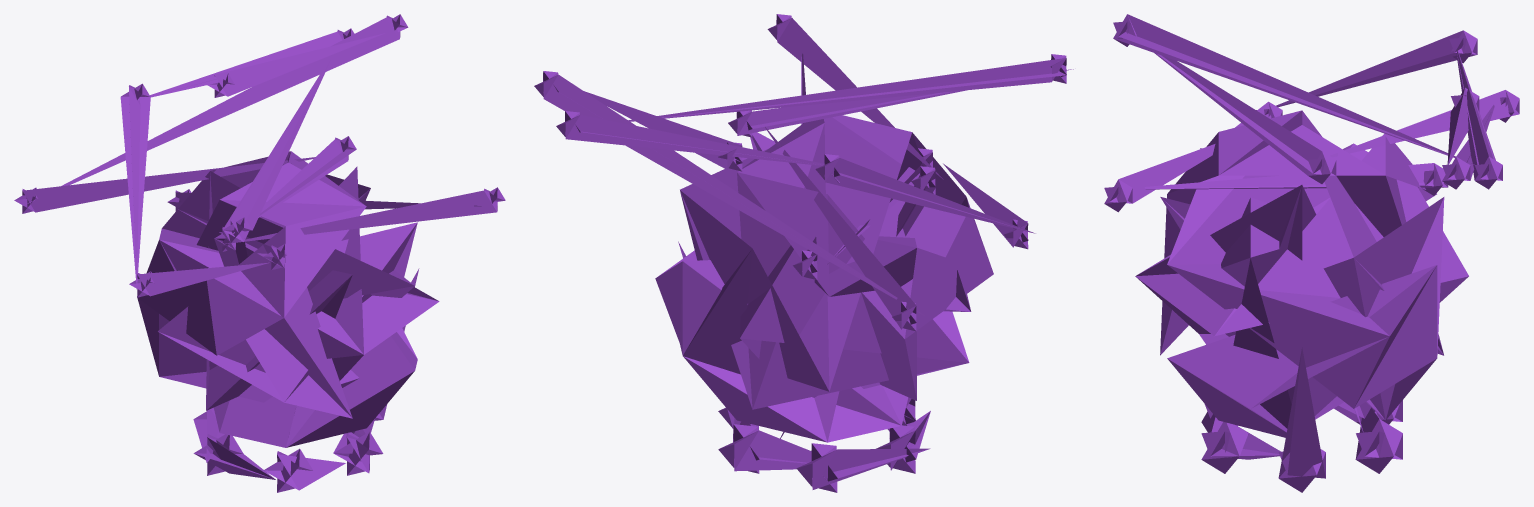
File: spore_walker.obj
The picture shows the model from 3 angles, left to right: view 1: azimuth 30°, elevation 25°; view 2: azimuth 150°, elevation 25°; view 3: azimuth 270°, elevation 25°; orthographic projection. The views are drawn at different scales.
Visible parts, largest first — view 1: spore_walker; view 2: spore_walker; view 3: spore_walker.
Boxes of the visible parts, x1,y1,x2,y2 form: spore_walker: (14,14,505,492); spore_walker: (534,14,1073,492); spore_walker: (1104,14,1519,492).
Bounding box in the file's own units: 4.17 × 3.79 × 3.73.
